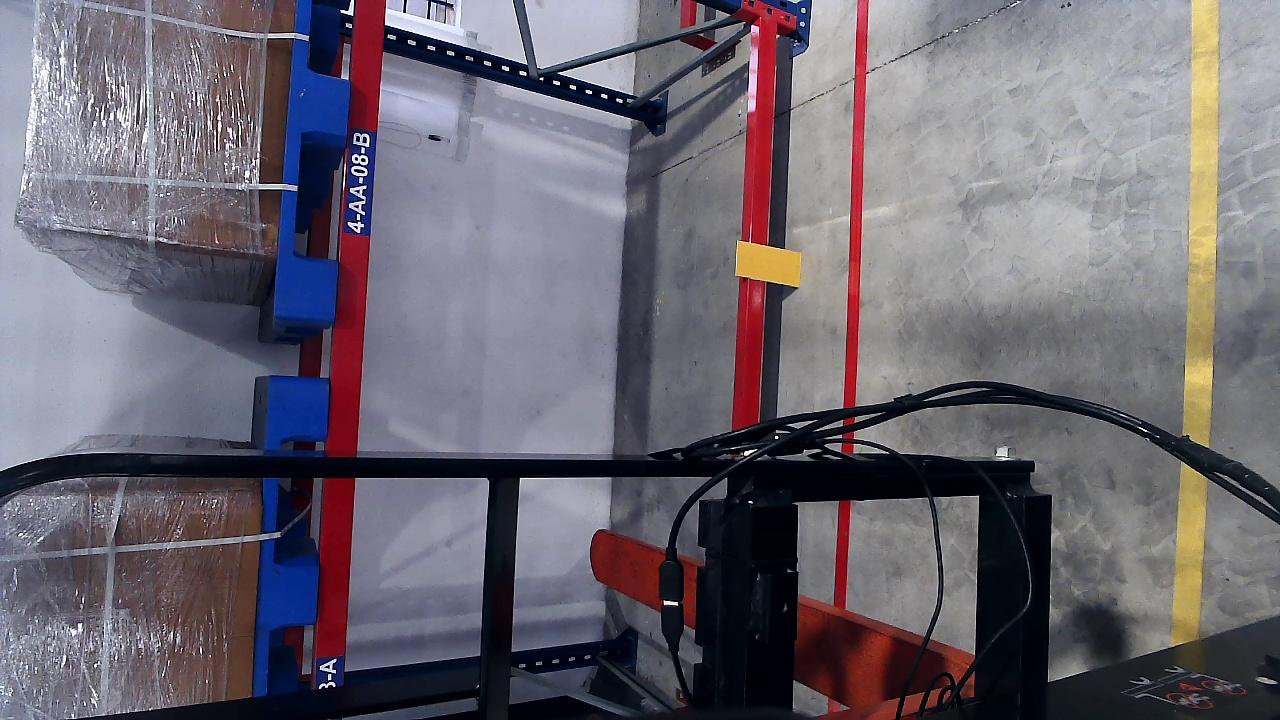h_rack: (325, 0, 390, 458), (735, 11, 780, 429), (315, 479, 357, 688)
orange_strip: (735, 241, 801, 287)
red_line: (842, 3, 868, 408)
small_pallet: (270, 0, 364, 321), (249, 380, 326, 690)
yellow_line: (1181, 1, 1221, 448), (1171, 464, 1210, 646)
